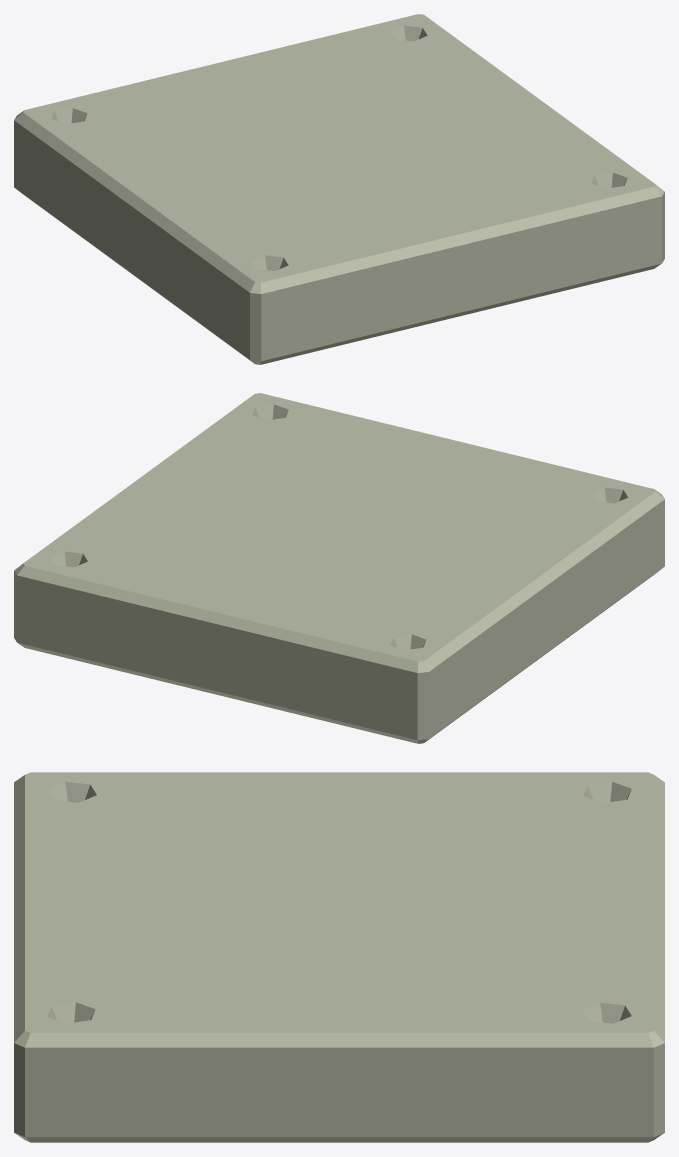
File: tileSingle.fbx
The picture shows the model from 3 angles, top to bottom: view 1: azimuth 30°, elevation 25°; view 2: azimuth 150°, elevation 25°; view 3: azimuth 270°, elevation 25°; orthographic projection. The views are drawn at different scales.
Parts seen in each view (by area): view 1: TILE; view 2: TILE; view 3: TILE.
Boxes of the visible parts, x1,y1,x2,y2 form: TILE: (14,14,664,364); TILE: (14,393,664,743); TILE: (14,772,664,1142).
Size of the model in its own units: 204 by 38.66 by 208.
